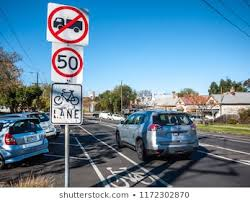sp50: (47, 46, 92, 79)
